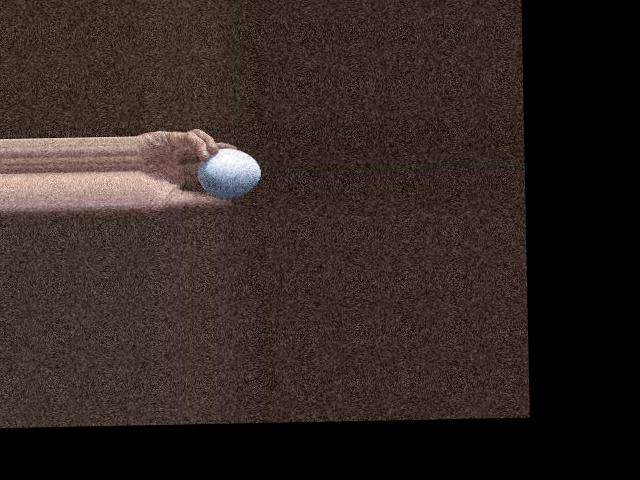egg: (197, 146, 262, 197)
